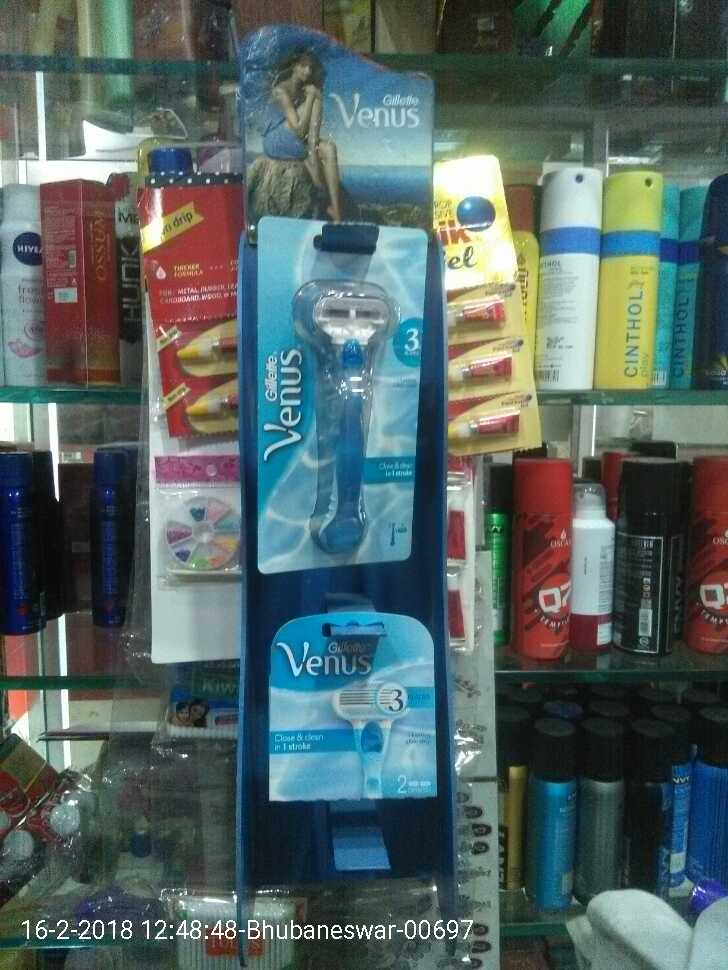venus: (253, 225, 422, 579), (261, 620, 457, 810)
